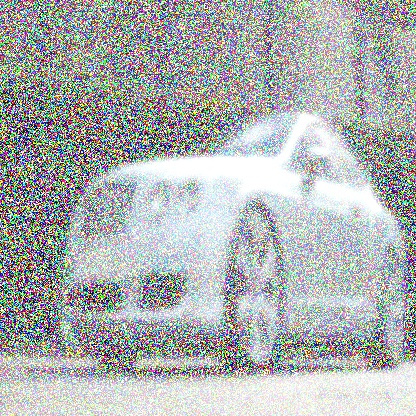Vehicle: (60, 112, 407, 374)
